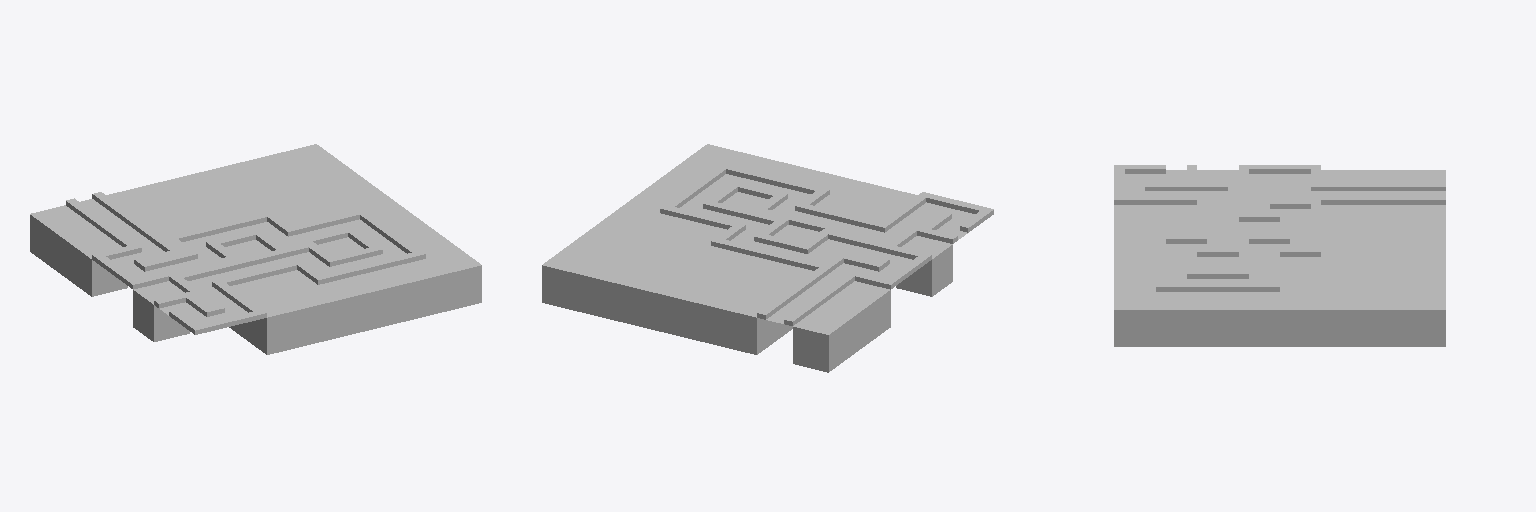
Rendered from RED.obj.
3 views of the same model, side by side, from view 1: azimuth 30°, elevation 25°; view 2: azimuth 150°, elevation 25°; view 3: azimuth 270°, elevation 25° (orthographic).
Parts seen in each view (by area): view 1: QMazePieceCorner, QMazePieceLine, QMazePieceEmpty 43 (92), QMazePieceEmpty 43 (88), QMazePieceEmpty 43 (117), QMazePieceEmpty 43 (87), QMazePieceEmpty 43 (89), QMazePieceEmpty 43 (63), QMazePieceEmpty 43 (49), QMazePieceEmpty 43 (86), QMazePieceEmpty 43 (16), QMazePieceEmpty 43 (15) (+24 smaller); view 2: QMazePieceCorner, QMazePieceLine, QMazePieceEmpty 43 (15), QMazePieceEmpty 43 (66), QMazePieceEmpty 43 (67), QMazePieceEmpty 43 (111), QMazePieceEmpty 43 (76), QMazePieceEmpty 43 (72), QMazePieceEmpty 43 (63), QMazePieceEmpty 43 (80), QMazePieceEmpty 43 (16), QMazePieceEmpty 43 (49) (+25 smaller); view 3: QMazePieceCorner, QMazePieceLine, QMazePieceEmpty 43 (117), QMazePieceEmpty 43 (115), QMazePieceEmpty 43 (109), QMazePieceEmpty 43 (111), QMazePieceEmpty 43 (114), QMazePieceEmpty 43 (116), QMazePieceEmpty 43 (110), QMazePieceEmpty 43 (108), QMazePieceEmpty 43 (88), QMazePieceEmpty 43 (87) (+24 smaller).
Boxes of the visible parts, box(x1,y1,x2,y2) form: QMazePieceCorner: box(92, 209, 425, 334); QMazePieceLine: box(66, 192, 403, 307); QMazePieceEmpty 43 (92): box(246, 294, 302, 354); QMazePieceEmpty 43 (88): box(283, 285, 338, 345); QMazePieceEmpty 43 (117): box(427, 250, 481, 311); QMazePieceEmpty 43 (87): box(354, 268, 410, 328); QMazePieceEmpty 43 (89): box(319, 276, 374, 337); QMazePieceEmpty 43 (63): box(133, 281, 189, 341); QMazePieceEmpty 43 (49): box(71, 236, 127, 296); QMazePieceEmpty 43 (86): box(390, 259, 445, 319); QMazePieceEmpty 43 (16): box(50, 221, 106, 280); QMazePieceEmpty 43 (15): box(30, 205, 85, 265); QMazePieceCorner: box(660, 163, 993, 289); QMazePieceLine: box(681, 172, 936, 325); QMazePieceEmpty 43 (15): box(793, 311, 848, 372); QMazePieceEmpty 43 (66): box(721, 294, 777, 354); QMazePieceEmpty 43 (67): box(685, 285, 740, 345); QMazePieceEmpty 43 (111): box(542, 250, 596, 311); QMazePieceEmpty 43 (76): box(613, 268, 669, 328); QMazePieceEmpty 43 (72): box(649, 276, 704, 337); QMazePieceEmpty 43 (63): box(896, 236, 952, 296); QMazePieceEmpty 43 (80): box(578, 259, 633, 319); QMazePieceEmpty 43 (16): box(814, 296, 869, 357); QMazePieceEmpty 43 (49): box(835, 281, 890, 341); QMazePieceCorner: box(1114, 165, 1320, 291); QMazePieceLine: box(1156, 182, 1445, 291); QMazePieceEmpty 43 (117): box(1114, 292, 1155, 346); QMazePieceEmpty 43 (115): box(1197, 292, 1238, 346); QMazePieceEmpty 43 (109): box(1321, 292, 1362, 346); QMazePieceEmpty 43 (111): box(1404, 292, 1445, 346); QMazePieceEmpty 43 (114): box(1156, 292, 1196, 346); QMazePieceEmpty 43 (116): box(1239, 292, 1279, 346); QMazePieceEmpty 43 (110): box(1280, 292, 1320, 346); QMazePieceEmpty 43 (108): box(1363, 292, 1403, 346); QMazePieceEmpty 43 (88): box(1114, 222, 1155, 239); QMazePieceEmpty 43 (87): box(1114, 257, 1155, 274).
Size of the model in its own units: 40 by 5.62 by 40.